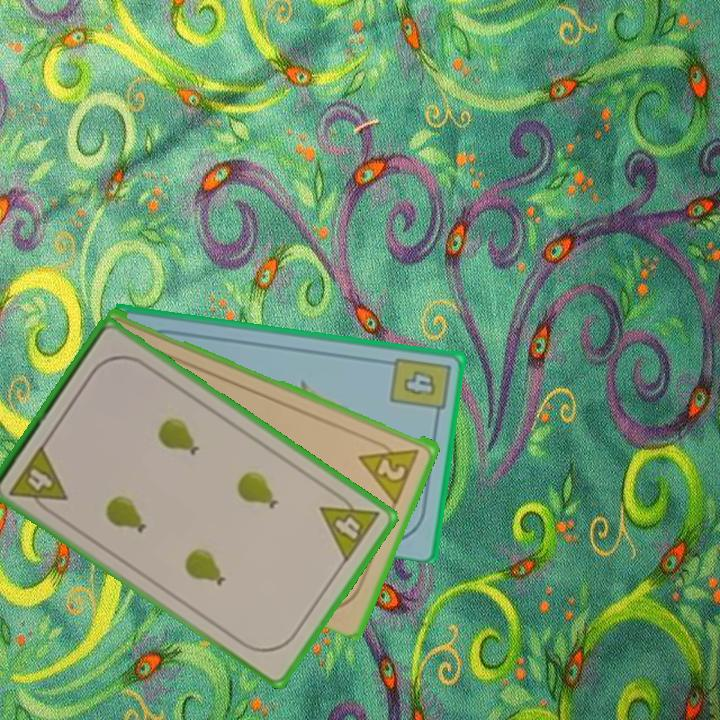2p: (356, 435, 423, 505)
4b: (386, 353, 453, 422)
4p: (316, 486, 382, 566), (6, 441, 71, 519)
